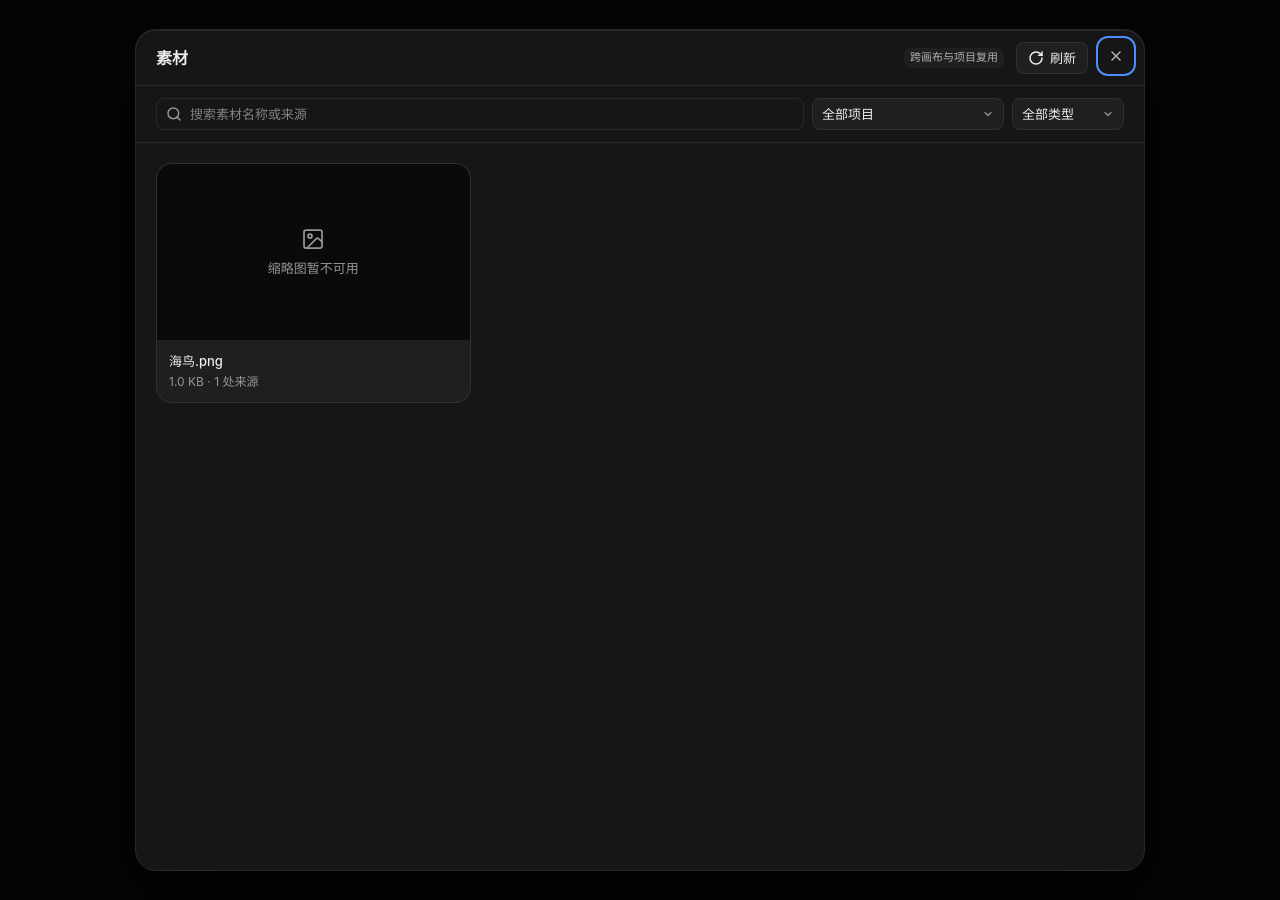
Test: 素材面板的详情与预览 › 缩略图加载失败仍能打开详情，原图失败可以重试
Expected: the text "缩略图暂不可用" is shown, x1=268 y1=259 x2=359 y2=277
Note: 缩略图失败不影响选择素材
Click the button "缩略图暂不可用 海鸟.png 1.0 KB · 1 处来源": (313,283) x1=156 y1=163 x2=471 y2=403
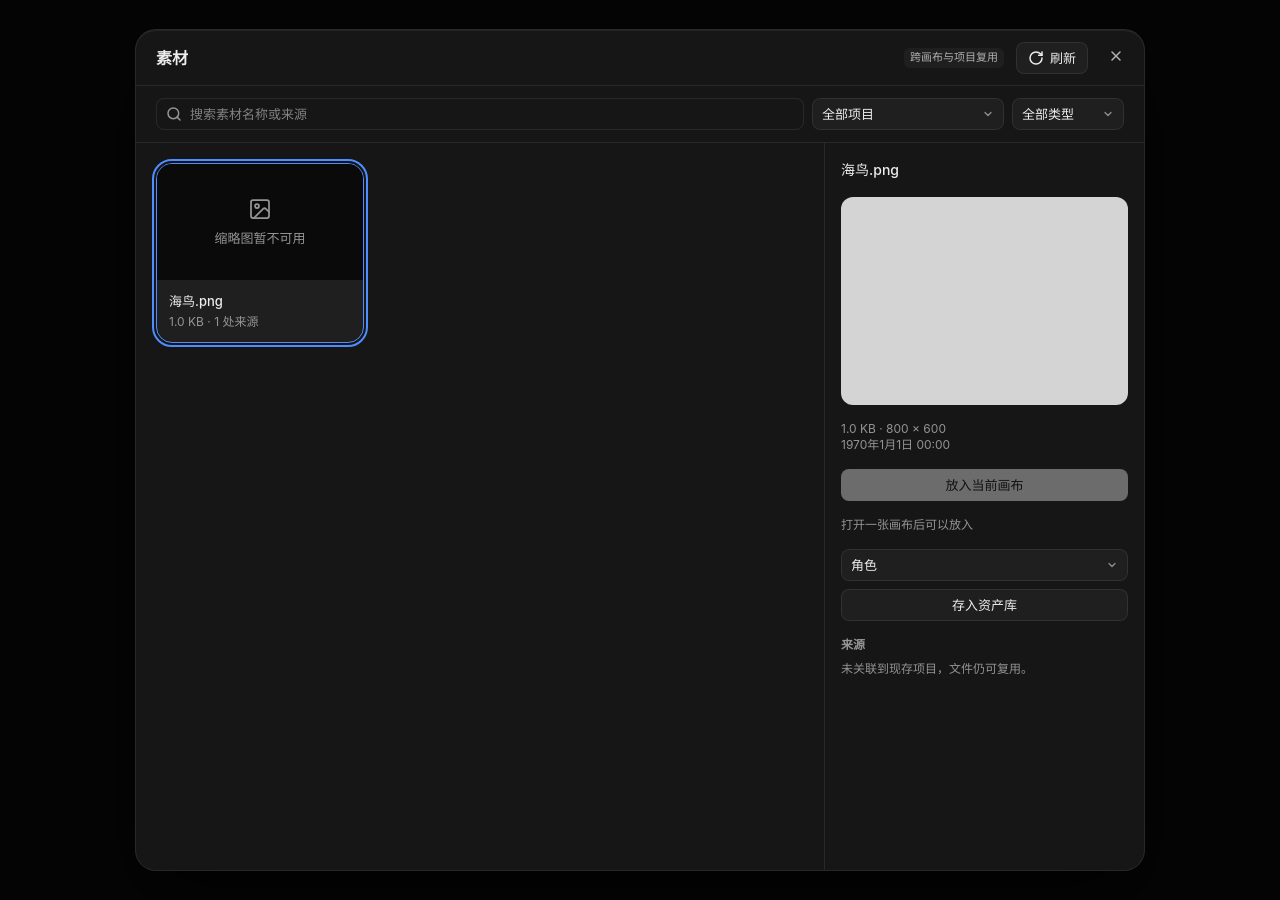
Now the heading "海鸟.png" is shown, box x1=841 y1=161 x2=899 y2=178
